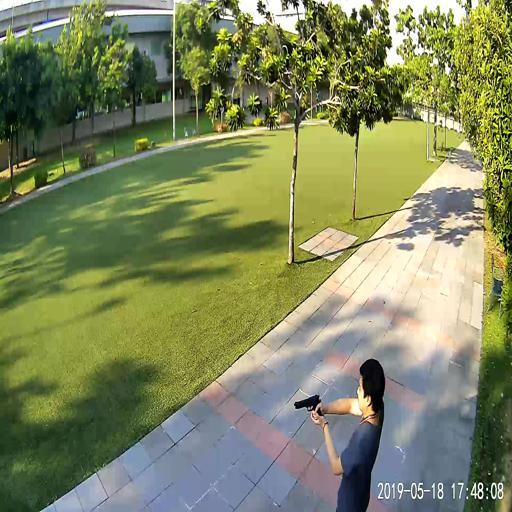Handgun: (293, 392, 320, 416)
